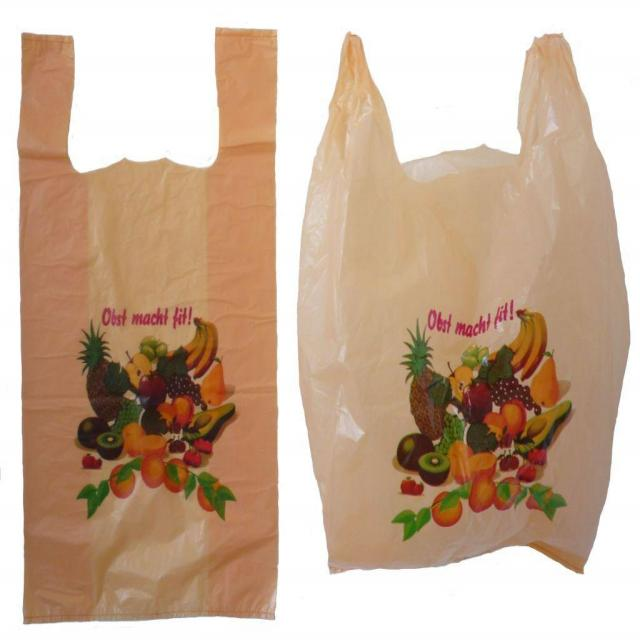plastic_bag: (300, 36, 630, 575), (18, 30, 280, 623)
